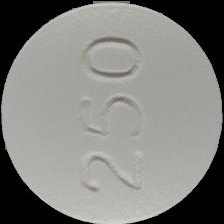70786-0411: (0, 0, 224, 224)
